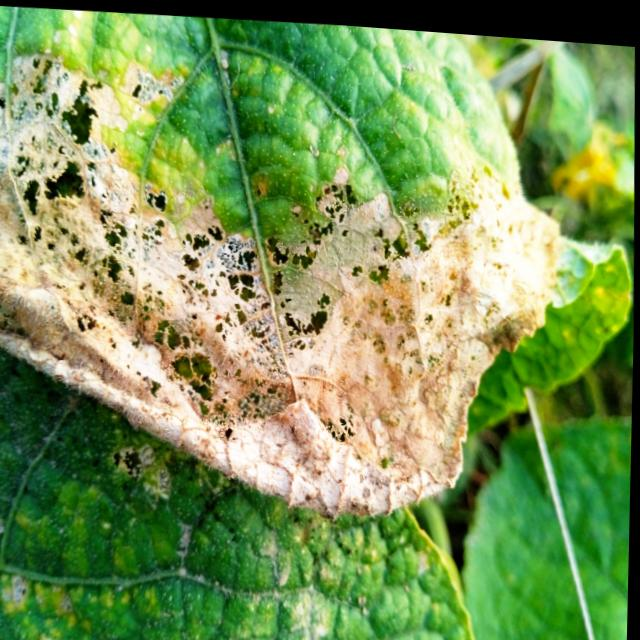Gummy-Stem-Blight: (0, 41, 564, 544)
